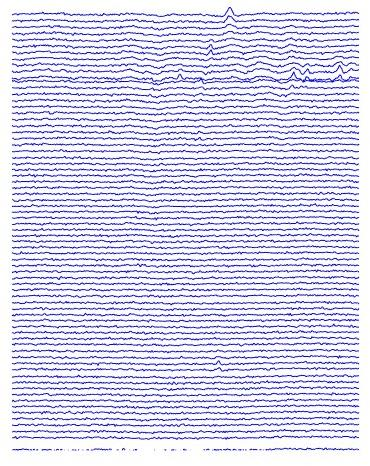defect: (285, 60, 313, 86), (202, 39, 219, 64), (335, 62, 354, 79), (220, 8, 234, 25)
